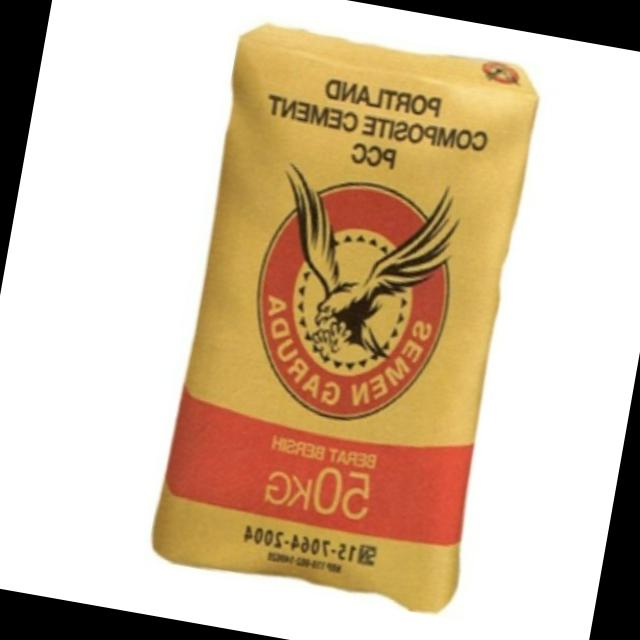KantongSemen: (145, 13, 550, 617)
